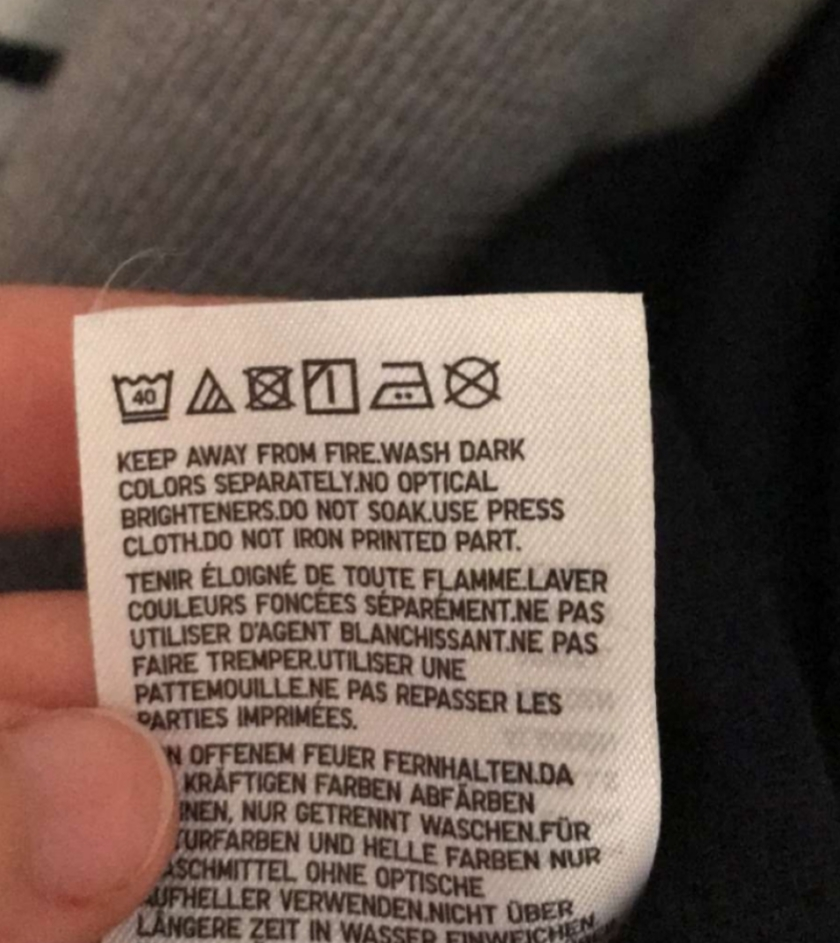bleach: (185, 361, 237, 430)
do not dry clean: (439, 348, 529, 424)
do not tumble dry: (240, 354, 302, 423)
drip dry: (299, 357, 367, 425)
iron medium temp: (364, 352, 444, 425)
wash at or below 40: (108, 366, 182, 434)
